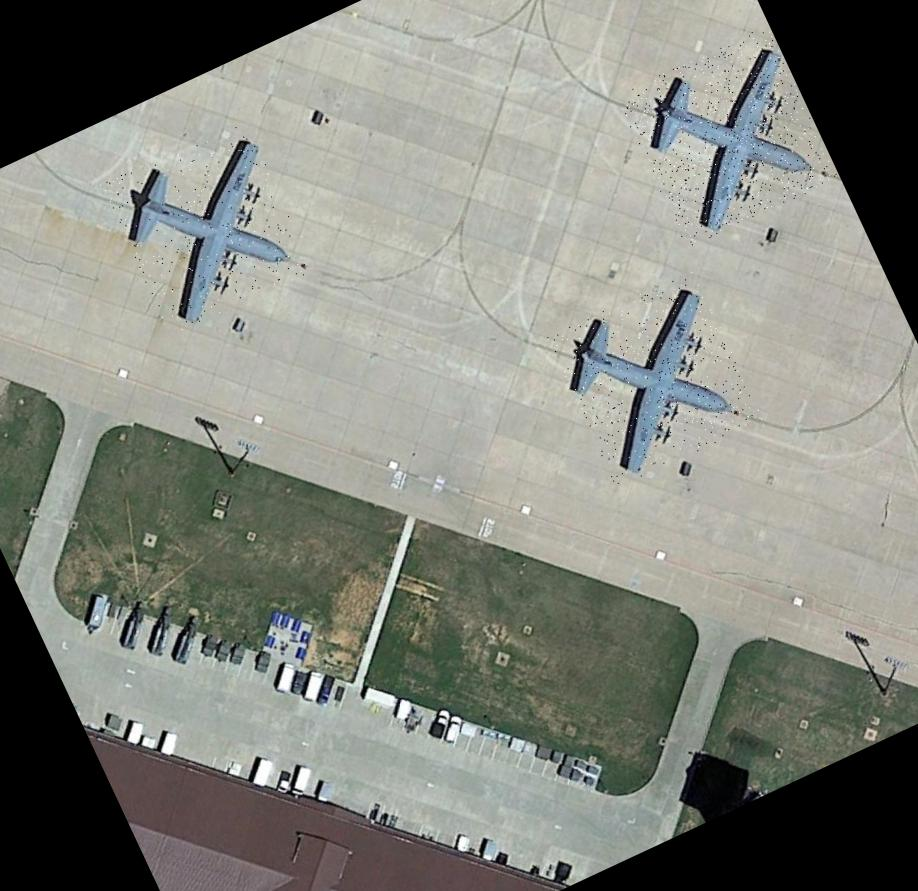A2: (616, 24, 839, 248), (99, 116, 316, 336), (546, 268, 763, 488)
